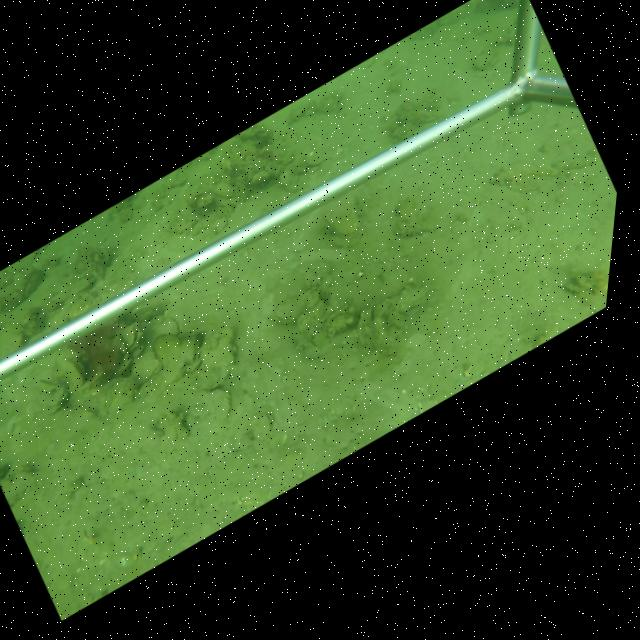Oyster-Closed: (322, 192, 363, 236), (198, 330, 238, 367), (395, 282, 433, 313), (270, 297, 307, 326), (277, 168, 297, 192), (210, 181, 233, 197)
Oyster-Indeterminate: (396, 197, 437, 232), (209, 387, 232, 422), (251, 412, 273, 442), (154, 317, 179, 335), (305, 151, 329, 166)
Oyster-Open: (63, 356, 88, 386), (120, 321, 143, 352)
